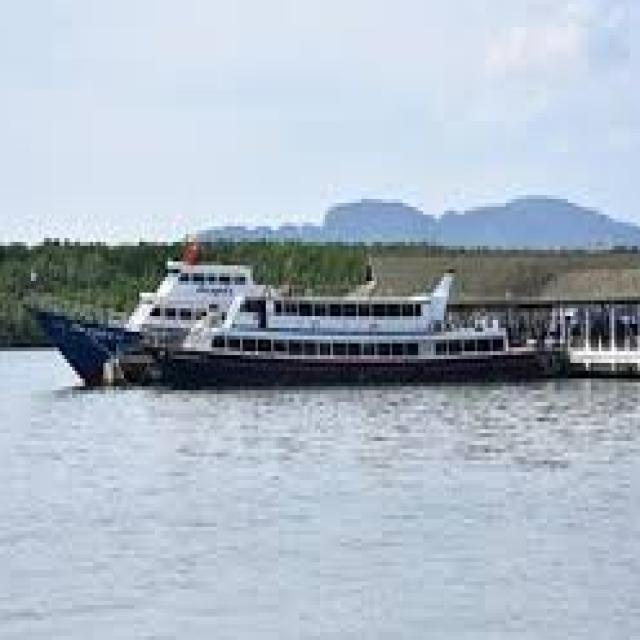passenger ship: (8, 248, 466, 362), (176, 288, 564, 375)
